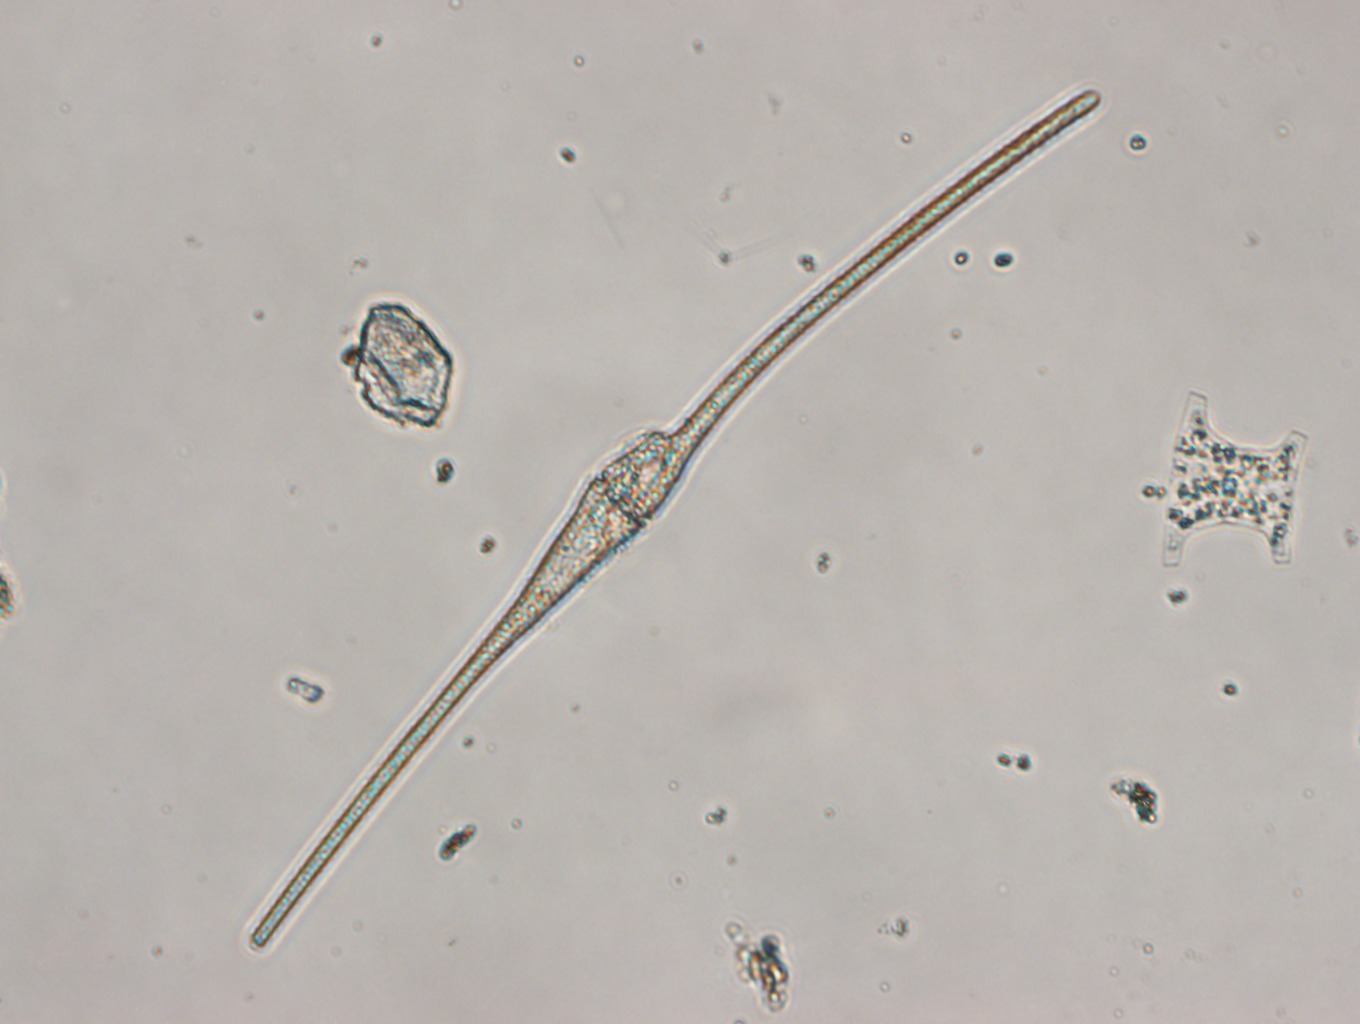ceratium fusus: (246, 83, 1103, 953)
eucampia: (1160, 386, 1311, 572)
